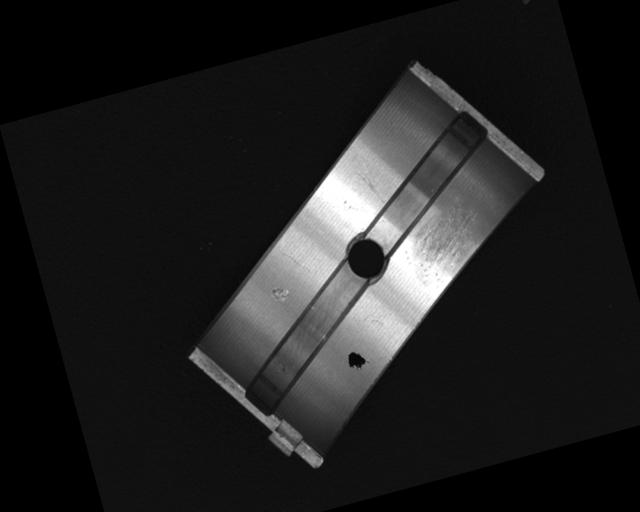blot: (344, 348, 369, 373)
bruise: (267, 283, 292, 305)
gap: (225, 262, 391, 413), (347, 105, 508, 246)
hole: (340, 231, 393, 285)
nick: (355, 160, 385, 211), (282, 247, 313, 279)
scratch: (398, 200, 495, 290)
